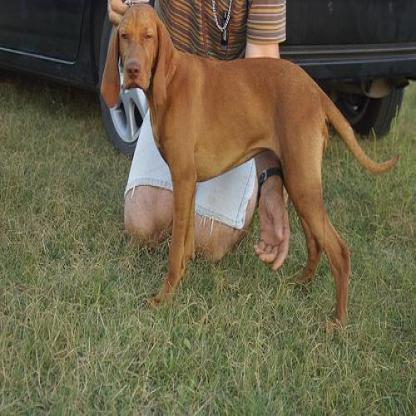vizsla: (99, 2, 399, 336)
